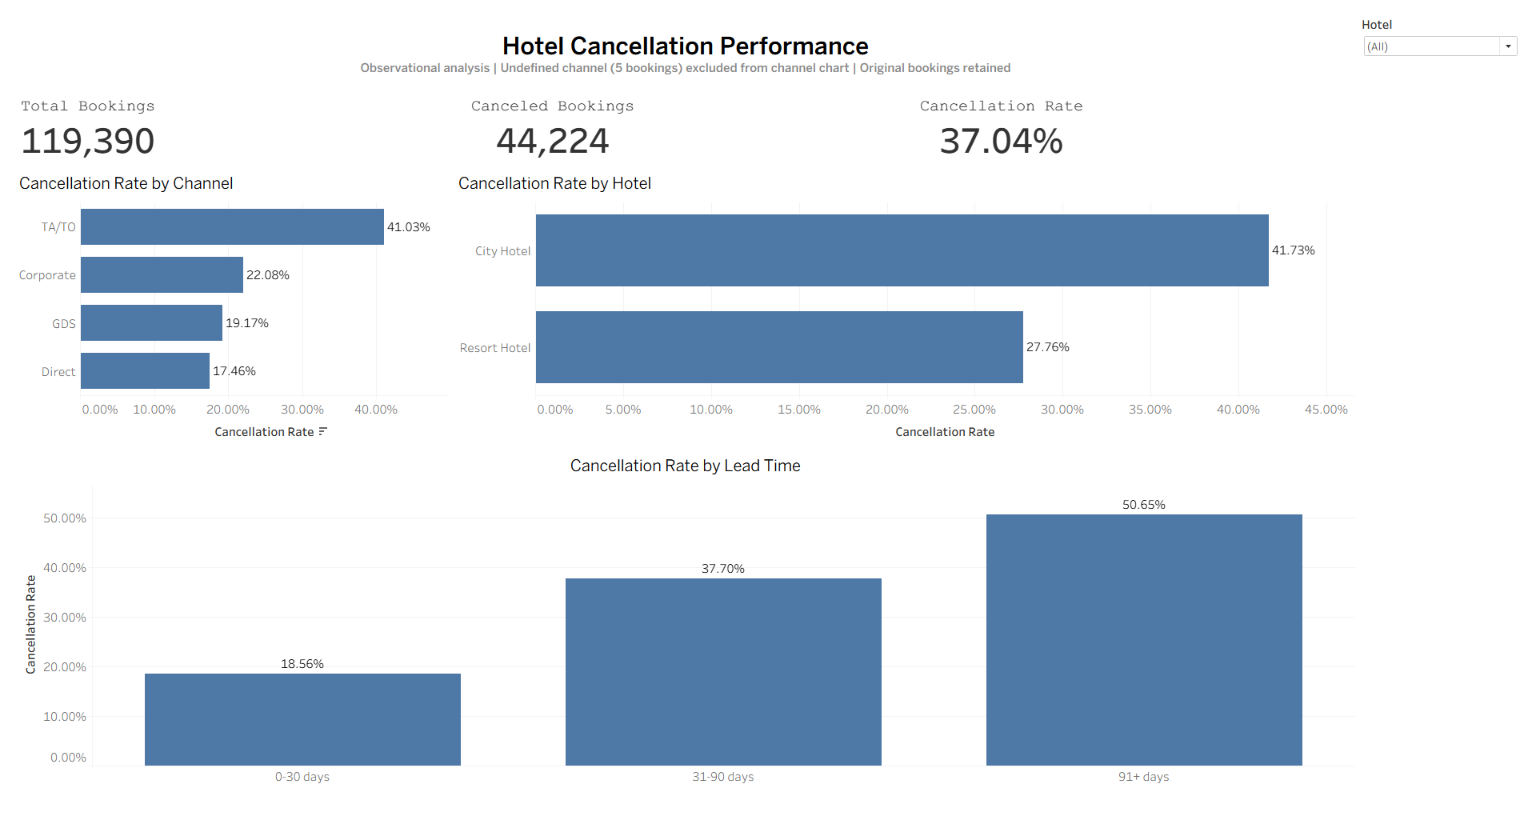

The page's visual inventory and layout, read from the dashboard file:
{"tool":"tableau","page":{"name":"Dashboard 1","canvas":[1000,1000],"units":"permille","ordinal":0},"visuals":[{"type":"title","box":[10.3,18.5,846.5,118.1]},{"type":"filter","title":"Chart - Channel Cancellation","param":"[federated.0k3020n0cdivmm13dzjnc1yk5om1].[none:hotel:nk]","box":[856.8,18.5,132.9,99.5]},{"type":"worksheet","title":"KPI - Total Bookings","mark":"Automatic","box":[10.3,136.6,282.6,104.2]},{"type":"worksheet","title":"KPI - Canceled Bookings","mark":"Automatic","box":[292.9,136.6,281.9,104.2]},{"type":"worksheet","title":"KPI - Cancellation Rate","mark":"Automatic","box":[574.8,136.6,281.9,104.2]},{"type":"worksheet","title":"Chart - Channel Cancellation","mark":"Bar","rows":["distribution_channel"],"cols":["Calculation_0907923479146498"],"box":[10.3,240.8,354.2,408.6]},{"type":"worksheet","title":"Chart - Hotel Cancellation","mark":"Bar","rows":["hotel"],"cols":["Calculation_0907923479146498"],"box":[364.5,240.8,492.3,408.6]},{"type":"worksheet","title":"Chart - Lead Time Cancellation","mark":"Bar","rows":["Calculation_0907923479146498"],"cols":["lead_time_bucket"],"box":[10.3,649.3,846.5,332.2]}]}

Visuals, with their boxes on the dashboard's canvas, which has no fixed pixel size, in thousandths of its width and height (x1, y1, x2, y2). These are canvas units, not pixel positions in the 1535x829 screenshot, which may show the page scaled, cropped or inside an application window:
title: <region>10, 18, 857, 137</region>
"Chart - Channel Cancellation" filter: <region>857, 18, 990, 118</region>
"KPI - Total Bookings" worksheet: <region>10, 137, 293, 241</region>
"KPI - Canceled Bookings" worksheet: <region>293, 137, 575, 241</region>
"KPI - Cancellation Rate" worksheet: <region>575, 137, 857, 241</region>
"Chart - Channel Cancellation" worksheet (Bar marks): <region>10, 241, 364, 649</region>
"Chart - Hotel Cancellation" worksheet (Bar marks): <region>364, 241, 857, 649</region>
"Chart - Lead Time Cancellation" worksheet (Bar marks): <region>10, 649, 857, 982</region>
